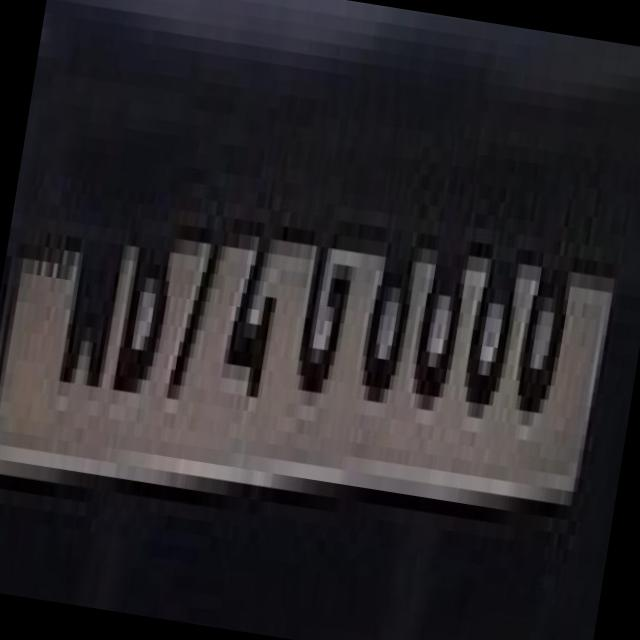LicensePlate: (0, 78, 636, 562)
